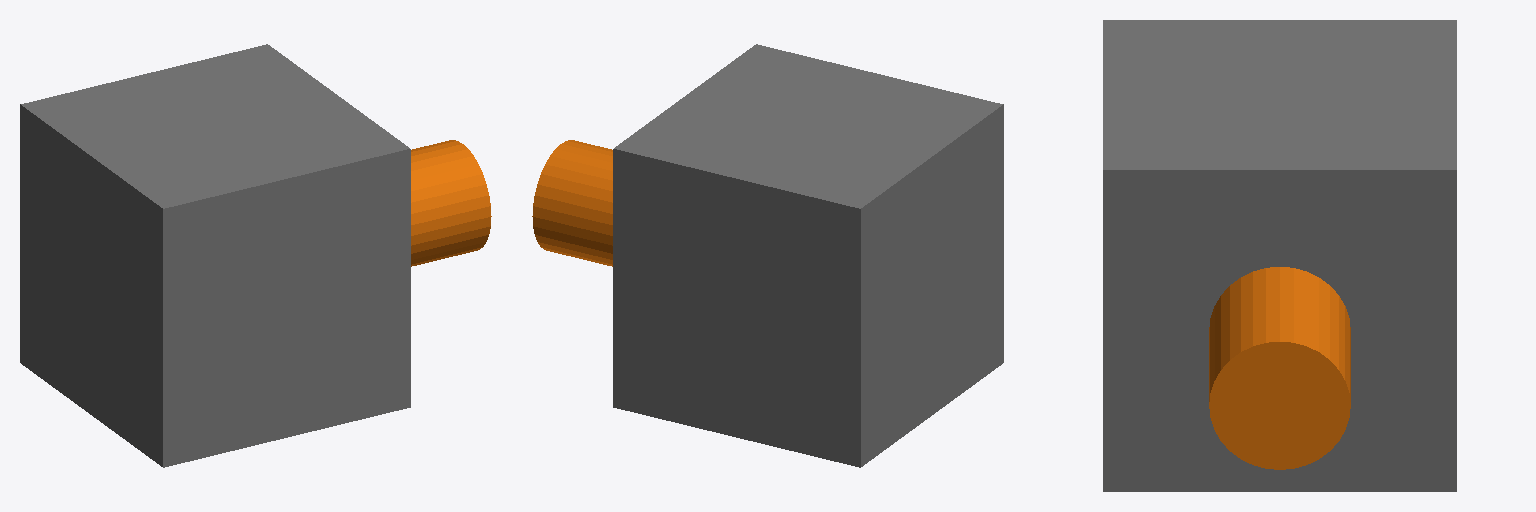
The robot description file, URDF, robot "bench_motor":
<?xml version="1.0"?>
<!--
  bench_motor.urdf — Minimal single-joint robot for actuator bench testing.
  Represents a Robstride motor (RS02 or RS03) mounted on a fixed base with
  nothing attached to the output shaft — just the output flange.

  The link inertia is intentionally tiny (0.01 kg, I=1e-6 kg·m²) so the
  simulation dynamics are dominated by the actuator armature value, matching
  real bench conditions where only the rotor inertia matters.

  Joint axis: Z (rotation in the XY plane, matching IsaacLab convention).
  Limits are wide (±4 rad) to cover the test range without clamping.
-->
<robot name="bench_motor">

  <!-- Fixed base, attached to world -->
  <link name="base_link">
    <inertial>
      <mass value="1.0"/>
      <origin xyz="0 0 0" rpy="0 0 0"/>
      <inertia ixx="0.01" ixy="0" ixz="0"
               iyy="0.01" iyz="0" izz="0.01"/>
    </inertial>
    <visual>
      <geometry><box size="0.05 0.05 0.05"/></geometry>
      <material name="grey"><color rgba="0.5 0.5 0.5 1"/></material>
    </visual>
    <collision>
      <geometry><box size="0.05 0.05 0.05"/></geometry>
    </collision>
  </link>

  <!-- Output shaft — tiny mass so dynamics are dominated by armature -->
  <link name="output_link">
    <inertial>
      <mass value="0.01"/>
      <origin xyz="0.03 0 0" rpy="0 0 0"/>
      <!-- I = 0.01 kg * 0.03^2 / 2 ≈ 4.5e-6 kg·m² — negligible vs armature -->
      <inertia ixx="1e-6" ixy="0" ixz="0"
               iyy="1e-6" iyz="0" izz="1e-6"/>
    </inertial>
    <visual>
      <origin xyz="0.025 0 0" rpy="0 1.5708 0"/>
      <geometry><cylinder length="0.05" radius="0.01"/></geometry>
      <material name="orange"><color rgba="0.9 0.5 0.1 1"/></material>
    </visual>
    <collision>
      <origin xyz="0.025 0 0" rpy="0 1.5708 0"/>
      <geometry><cylinder length="0.05" radius="0.01"/></geometry>
    </collision>
  </link>

  <!-- Single revolute joint — the motor output -->
  <joint name="bench_joint" type="revolute">
    <parent link="base_link"/>
    <child link="output_link"/>
    <origin xyz="0 0 0" rpy="0 0 0"/>
    <axis xyz="0 0 1"/>
    <limit lower="-4.0" upper="4.0" effort="100.0" velocity="50.0"/>
    <dynamics damping="0.0" friction="0.0"/>
  </joint>

</robot>

--- What the picture shows (computed from the rendered views, not written in the file) ---
Views: 3 orthographic renders of the robot side by side, from view 1: azimuth 30°, elevation 25°; view 2: azimuth 150°, elevation 25°; view 3: azimuth 270°, elevation 25°.
Robot: bench_motor — 2 links, 1 joints (1 revolute); root link base_link; default pose: every joint at zero.
Visible links, largest first — view 1: base_link, output_link; view 2: base_link, output_link; view 3: base_link, output_link.
Link boxes in pixels (left/top/right/bottom): base_link: left=20, top=44, right=410, bottom=467; output_link: left=411, top=140, right=491, bottom=266; base_link: left=613, top=44, right=1003, bottom=467; output_link: left=532, top=140, right=612, bottom=266; base_link: left=1103, top=20, right=1456, bottom=491; output_link: left=1209, top=267, right=1350, bottom=469.
Size in the robot's own frame: 0.075 by 0.05 by 0.05 metres.
Geometry: primitives only (box / cylinder / sphere), no mesh files.
